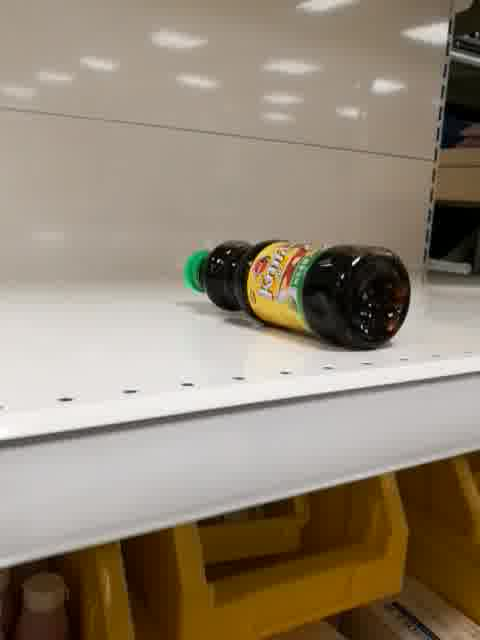cookingoil: (185, 236, 414, 354)
